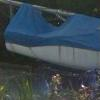Boat: (10, 13, 100, 73)
